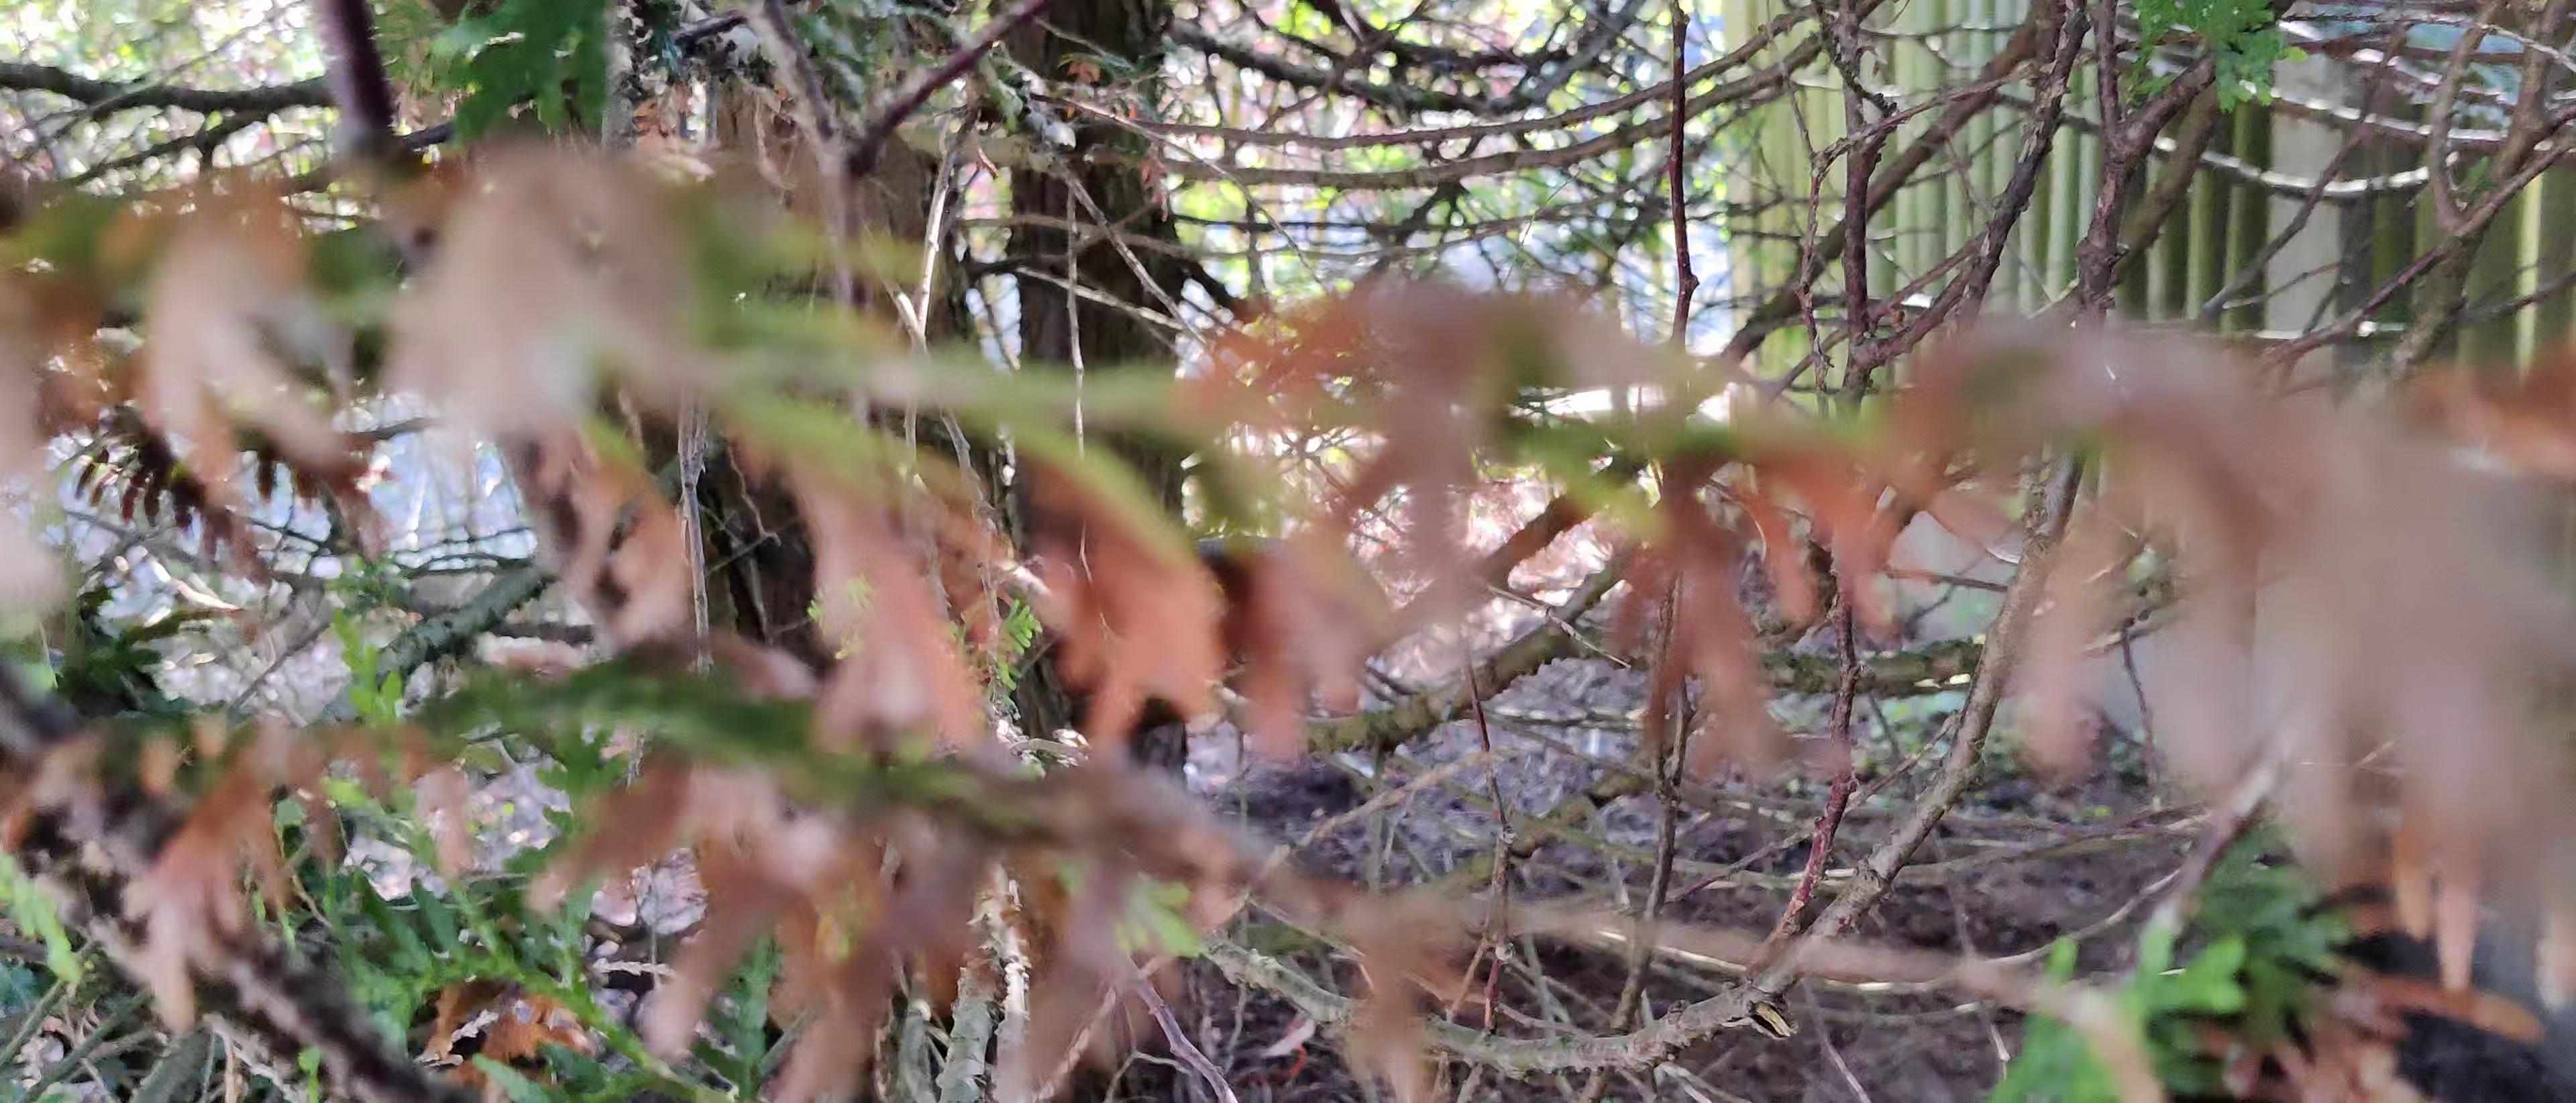Dog: (1148, 516, 1434, 807)
